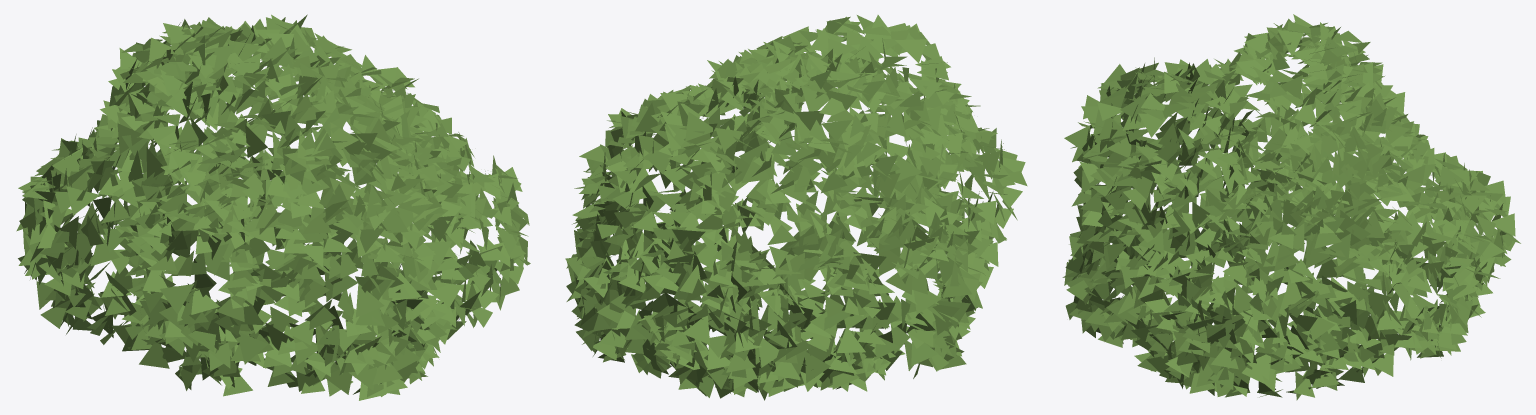
File: tree-bush-1-0.glb
The picture shows the model from 3 angles, left to right: view 1: azimuth 30°, elevation 25°; view 2: azimuth 150°, elevation 25°; view 3: azimuth 270°, elevation 25°; orthographic projection. The views are drawn at different scales.
Visible parts, largest first — view 1: tree/bush@1/0; view 2: tree/bush@1/0; view 3: tree/bush@1/0.
Part boxes in pixels (x1=…): tree/bush@1/0: x1=16, y1=14, x2=530, y2=400; tree/bush@1/0: x1=565, y1=15, x2=1027, y2=400; tree/bush@1/0: x1=1062, y1=14, x2=1520, y2=400.
Size of the model in its own units: 3317 by 2023 by 3240.
